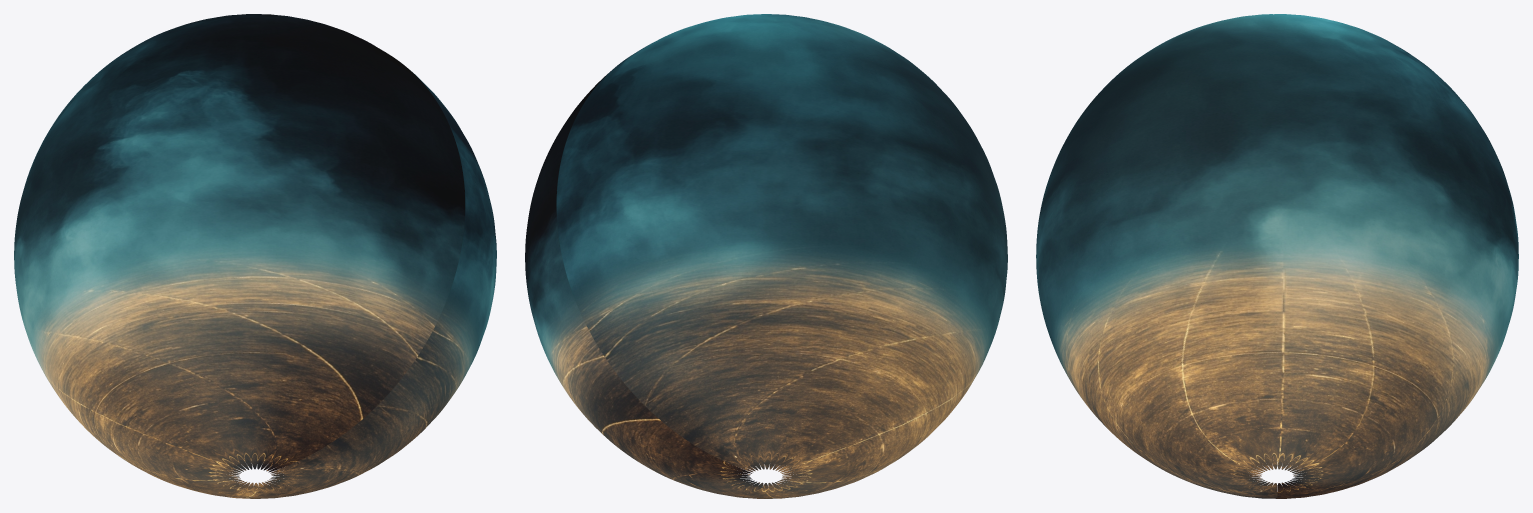
The picture shows the model from 3 angles, left to right: view 1: azimuth 30°, elevation 25°; view 2: azimuth 150°, elevation 25°; view 3: azimuth 270°, elevation 25°; orthographic projection.
Visible parts, largest first — view 1: Sfera_Materiale.001_0; view 2: Sfera_Materiale.001_0; view 3: Sfera_Materiale.001_0.
Boxes of the visible parts, box(x1,y1,x2,y2) form: Sfera_Materiale.001_0: box(14, 14, 496, 498); Sfera_Materiale.001_0: box(525, 14, 1007, 498); Sfera_Materiale.001_0: box(1036, 14, 1518, 498).
Size of the model in its own units: 13.49 by 13.52 by 13.46.
1 material, 1 textured.
